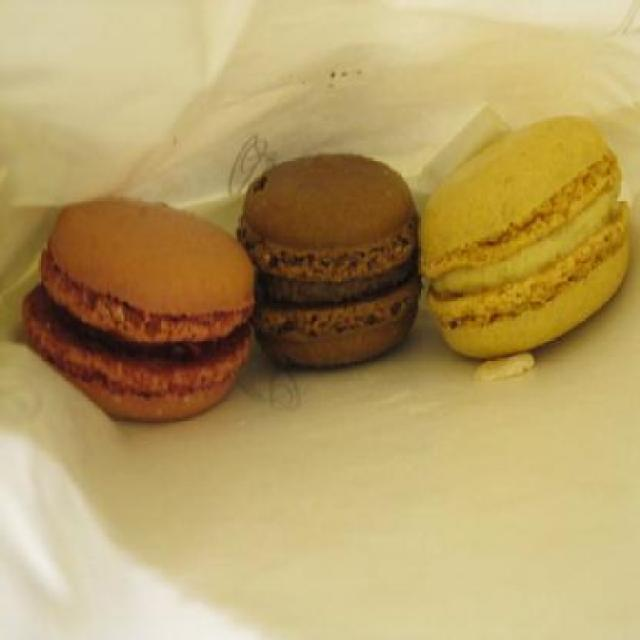Macaron: (34, 120, 638, 414)
